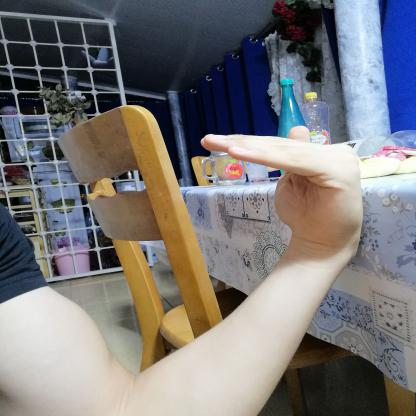KHAA: (180, 112, 377, 257)
